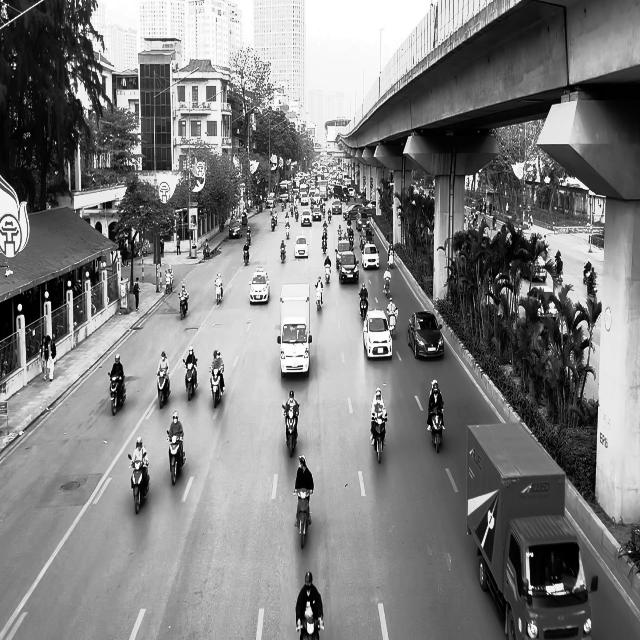car: (407, 310, 444, 360), (363, 308, 392, 360), (248, 266, 270, 304), (338, 251, 359, 284), (361, 243, 380, 269), (294, 235, 308, 257), (228, 219, 242, 238)
motorbike: (128, 454, 150, 514), (166, 430, 186, 486), (294, 488, 312, 548), (282, 402, 299, 457), (108, 372, 126, 416), (428, 404, 444, 453), (371, 415, 387, 463), (182, 357, 198, 401), (209, 364, 225, 408), (157, 370, 170, 408), (386, 308, 398, 338), (585, 269, 597, 296), (178, 292, 188, 320), (359, 292, 368, 318), (316, 284, 324, 310), (324, 256, 331, 283), (243, 243, 250, 266), (383, 277, 391, 297), (215, 282, 222, 304), (280, 241, 286, 263)
truck: (465, 421, 596, 639), (278, 284, 312, 378)
